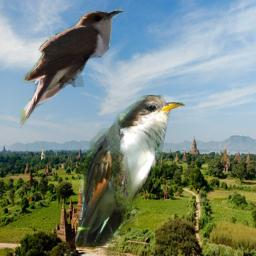Cuckoo: (75, 95, 185, 247), (20, 8, 124, 131)
